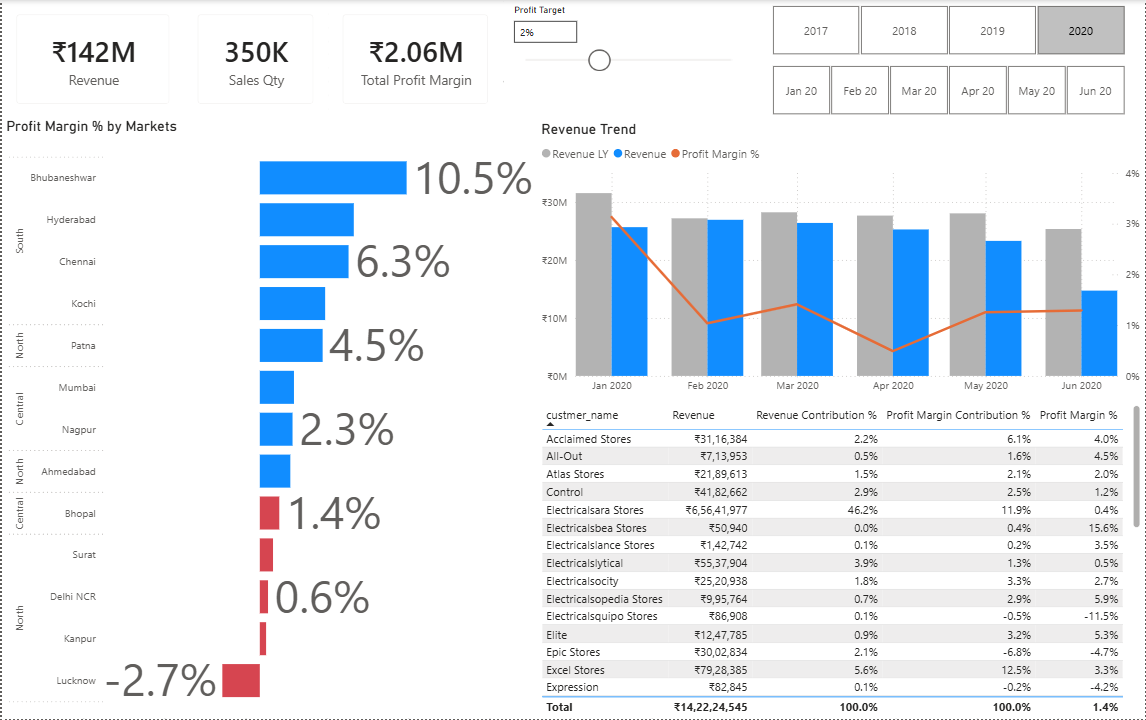

The page's visual inventory and layout, read from the dashboard file:
{"tool":"powerbi","page":{"name":"Performance Insights","canvas":[1350,850],"ordinal":2},"visuals":[{"type":"cardVisual","fields":{"Data":["BaseMeasures.Sales Qty"]},"box":[214.4,0,171.2,140.8],"z":0},{"type":"cardVisual","fields":{"Data":["BaseMeasures.Revenue"]},"box":[0,0,215,140],"z":1000},{"type":"barChart","title":"Profit Margin % by Markets","fields":{"Category":["sales markets.zone","sales markets.markets_name"],"Y":["BaseMeasures.Profit Margin %"]},"box":[0,138.8,632.1,710.4],"z":2000},{"type":"slicer","fields":{"Values":["sales date.year"]},"box":[884.7,0,465.2,70.9],"z":3000},{"type":"slicer","fields":{"Values":["sales date.cy_date"]},"box":[884.7,70.9,465.2,70.9],"z":4000},{"type":"tableEx","title":"Top 5 Customers","fields":{"Values":["sales customers.custmer_name","BaseMeasures.Revenue","BaseMeasures.Revenue Contribution %","BaseMeasures.Profit Margin Contribution %","BaseMeasures.Profit Margin %"]},"box":[632.1,474.1,717.8,375.1],"z":5000},{"type":"lineClusteredColumnComboChart","title":"Revenue Trend","fields":{"Category":["sales date.cy_date"],"Y":["BaseMeasures.Revenue LY","BaseMeasures.Revenue"],"Y2":["BaseMeasures.Profit Margin %"]},"box":[632.1,141.8,717.8,332.3],"z":6000},{"type":"cardVisual","fields":{"Data":["BaseMeasures.Total Profit Margin"]},"box":[385.6,0,206.4,140.8],"z":7000},{"type":"slicer","fields":{"Values":["Profit Target.Profit Target"]},"box":[592.2,0,292.4,141.8],"z":8000}]}

Visuals, with their boxes in screenshot pixels (x1, y1, x2, y2), scaled from the page's 1350x850 canvas onto the 1146x720 screenshot:
cardVisual - BaseMeasures.Sales Qty: BBox(182, 0, 327, 119)
cardVisual - BaseMeasures.Revenue: BBox(0, 0, 183, 119)
"Profit Margin % by Markets" barChart: BBox(0, 118, 537, 719)
slicer - sales date.year: BBox(751, 0, 1145, 60)
slicer - sales date.cy_date: BBox(751, 60, 1145, 120)
"Top 5 Customers" tableEx: BBox(537, 402, 1145, 719)
"Revenue Trend" lineClusteredColumnComboChart: BBox(537, 120, 1145, 402)
cardVisual - BaseMeasures.Total Profit Margin: BBox(327, 0, 503, 119)
slicer - Profit Target.Profit Target: BBox(503, 0, 751, 120)
